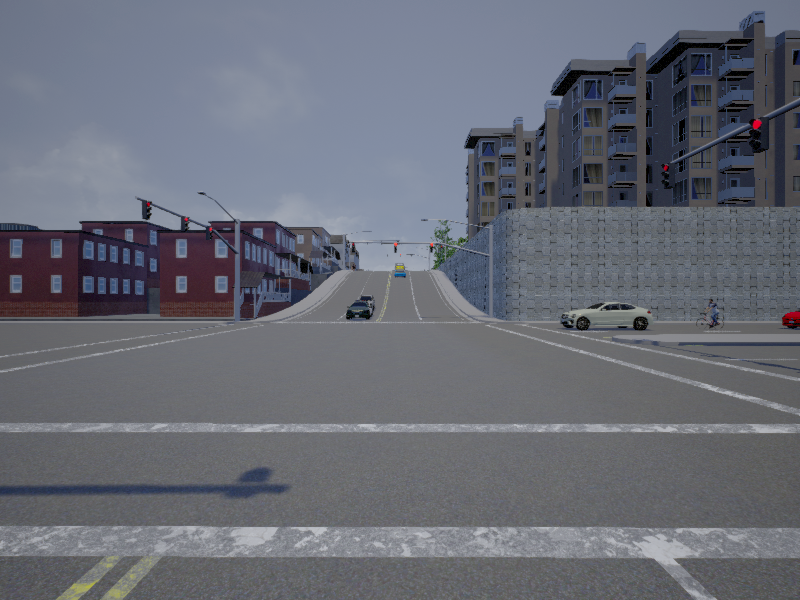benign: (562, 302, 652, 330), (694, 300, 724, 330), (344, 302, 372, 321), (782, 304, 800, 330), (358, 296, 376, 311), (394, 264, 407, 278)
